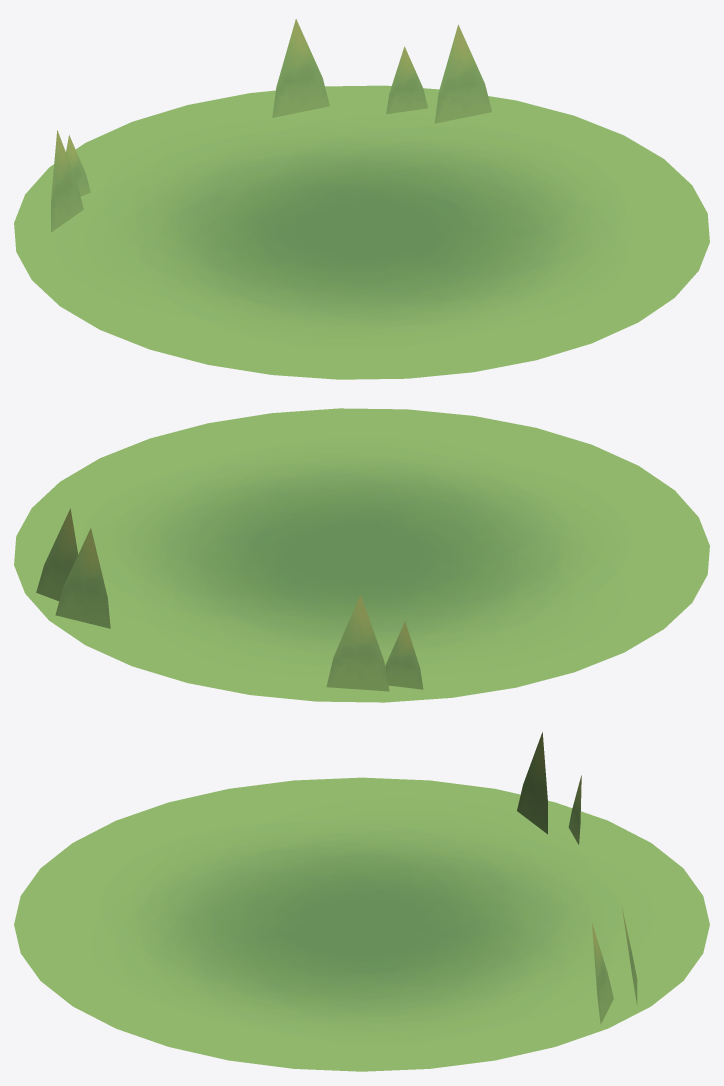
File: grass2.glb
3 views of the same model, one above another, from view 1: azimuth 30°, elevation 25°; view 2: azimuth 150°, elevation 25°; view 3: azimuth 270°, elevation 25° (orthographic).
Parts seen in each view (by area): view 1: Circle, Plane.003, Plane.005, Plane, Plane.004, Plane.002; view 2: Circle, Plane.006, Plane.009, Plane.008, Plane.007; view 3: Circle, Plane, Plane.008.
Part boxes in pixels (bbox=[...]): Circle: bbox=[14, 85, 709, 379]; Plane.003: bbox=[272, 19, 329, 117]; Plane.005: bbox=[434, 24, 491, 123]; Plane: bbox=[51, 130, 83, 232]; Plane.004: bbox=[386, 46, 427, 114]; Plane.002: bbox=[66, 135, 90, 196]; Circle: bbox=[14, 408, 709, 702]; Plane.006: bbox=[326, 594, 389, 691]; Plane.009: bbox=[55, 528, 110, 628]; Plane.008: bbox=[36, 508, 78, 601]; Plane.007: bbox=[385, 621, 423, 689]; Circle: bbox=[14, 777, 709, 1071]; Plane: bbox=[517, 732, 547, 834]; Plane.008: bbox=[592, 923, 613, 1024].
Size of the model in its own units: 2.98 by 0.4237 by 2.98.
1 material, 1 textured.
